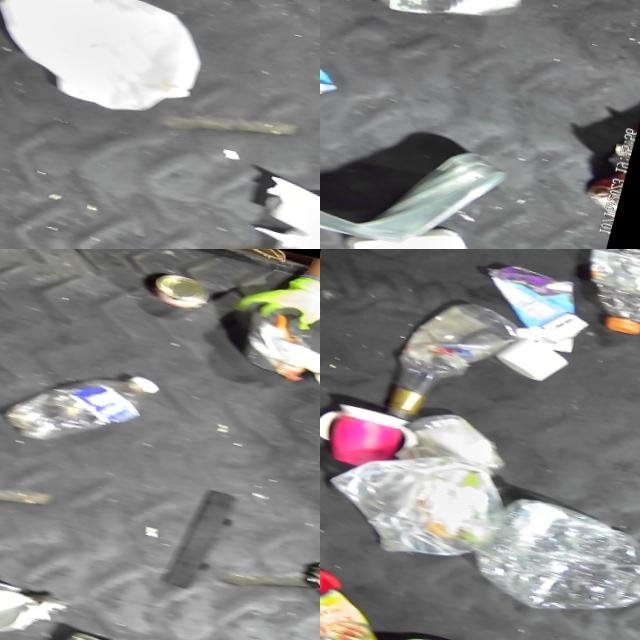can: (348, 0, 532, 48), (146, 270, 212, 320), (0, 574, 36, 640), (294, 542, 320, 624), (320, 38, 345, 113)
milk_jug: (0, 0, 215, 136)
non_white_jug: (320, 606, 488, 640)
plastic_bottle: (455, 479, 640, 640), (382, 287, 520, 442), (0, 346, 166, 474), (568, 249, 640, 348)
